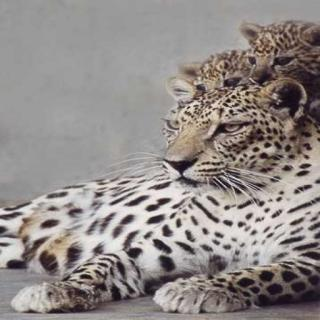Leopard: (0, 17, 320, 320), (231, 13, 320, 91)
